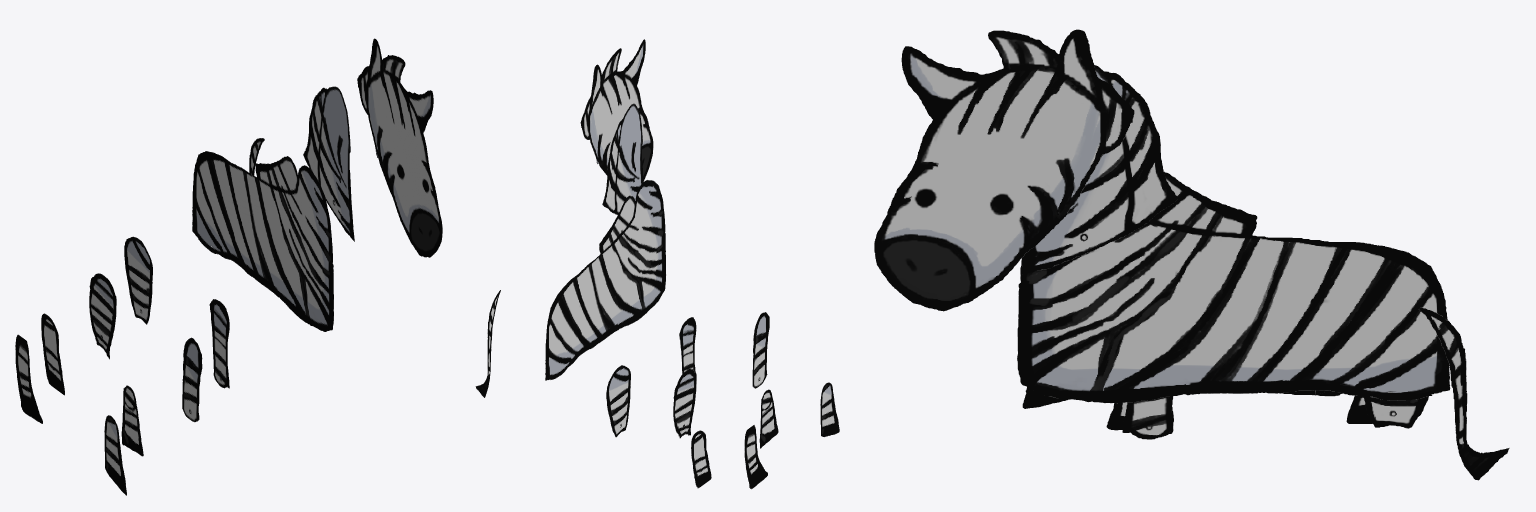
3 renders of one model, left to right at view 1: azimuth 30°, elevation 25°; view 2: azimuth 150°, elevation 25°; view 3: azimuth 270°, elevation 25°, orthographic. The views are drawn at different scales.
Visible parts, largest first — view 1: id_004_body, id_004_head, id_003_neck, id_004_Lleg, id_004_Rleg, id_004_Rarm, id_004_Larm, id_004_Rfoot, id_004_Lfoot, id_004_Rhand, id_004_Lhand; view 2: id_004_body, id_004_head, id_003_neck, id_004_Lleg, id_004_Rleg, id_004_Rarm, id_004_Lfoot, id_004_Rfoot, id_004_Rhand, id_004_Lhand, id_004_Larm, id_004_teal; view 3: id_004_body, id_004_head, id_003_neck, id_004_teal, id_004_Larm, id_004_Lleg.
Part boxes in pixels (<box>): id_004_body: <box>192,151,333,331</box>; id_004_head: <box>357,38,442,257</box>; id_003_neck: <box>303,86,354,241</box>; id_004_Lleg: <box>124,236,152,324</box>; id_004_Rleg: <box>89,273,116,359</box>; id_004_Rarm: <box>182,337,202,422</box>; id_004_Larm: <box>209,299,229,388</box>; id_004_Rfoot: <box>15,334,42,423</box>; id_004_Lfoot: <box>41,313,64,395</box>; id_004_Rhand: <box>104,415,126,495</box>; id_004_Lhand: <box>121,385,143,456</box>; id_004_body: <box>545,180,665,380</box>; id_004_head: <box>580,39,653,181</box>; id_003_neck: <box>602,103,643,214</box>; id_004_Lleg: <box>606,365,630,437</box>; id_004_Rleg: <box>673,368,696,438</box>; id_004_Rarm: <box>752,312,769,388</box>; id_004_Lfoot: <box>691,430,711,488</box>; id_004_Rfoot: <box>744,425,767,489</box>; id_004_Rhand: <box>820,382,839,436</box>; id_004_Lhand: <box>759,389,778,448</box>; id_004_Larm: <box>679,317,696,373</box>; id_004_teal: <box>475,290,500,397</box>; id_004_body: <box>1017,171,1450,403</box>; id_004_head: <box>874,29,1134,311</box>; id_003_neck: <box>1021,65,1178,274</box>; id_004_teal: <box>1418,307,1509,480</box>; id_004_Larm: <box>1122,396,1173,439</box>; id_004_Lleg: <box>1363,392,1428,428</box>.
Size of the model in its own units: 2.12 by 2.94 by 2.92.
1 material, 1 textured.
